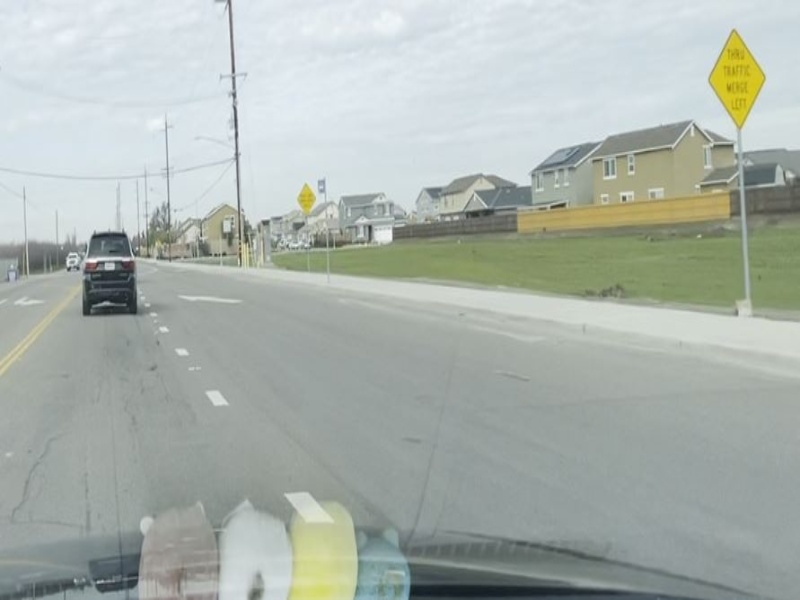merge sign: (706, 26, 766, 131), (295, 182, 320, 217)
